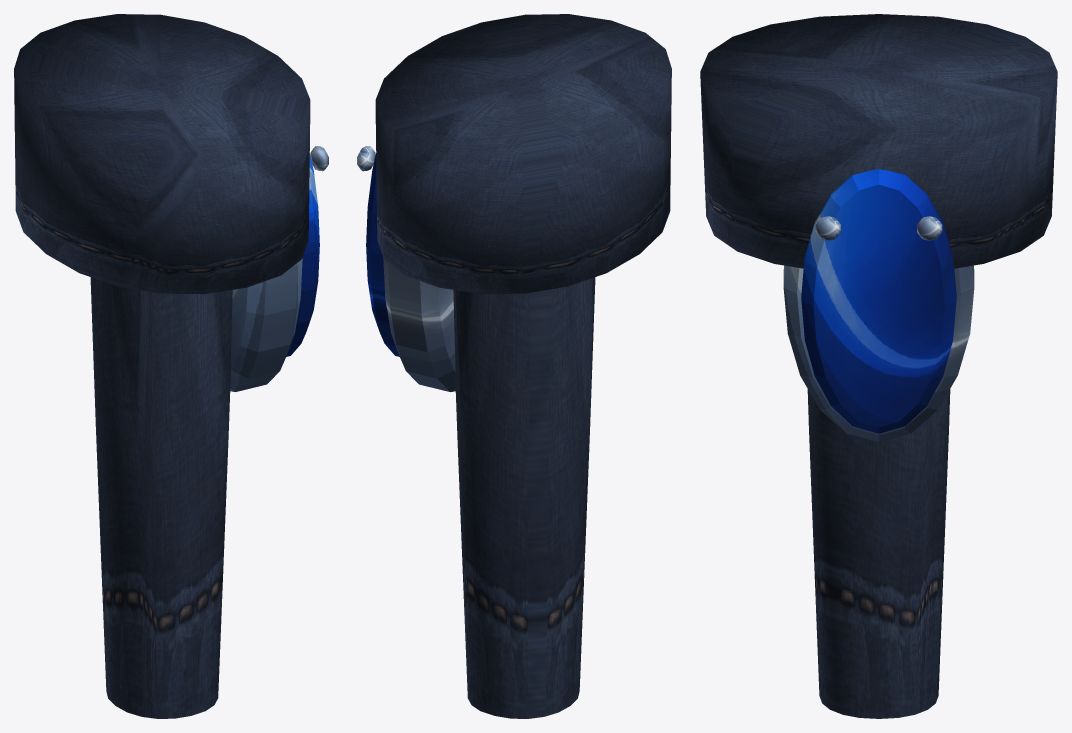
Rendered from cobalt-pants.glb.
The picture shows the model from 3 angles, left to right: view 1: azimuth 30°, elevation 25°; view 2: azimuth 150°, elevation 25°; view 3: azimuth 270°, elevation 25°; orthographic projection. The views are drawn at different scales.
Visible parts, largest first — view 1: hips, leg_L; view 2: hips, leg_L; view 3: leg_L, hips.
Boxes of the visible parts, x1=… form: hips: x1=14, y1=14, x2=310, y2=294; leg_L: x1=90, y1=146, x2=328, y2=718; hips: x1=375, y1=14, x2=671, y2=294; leg_L: x1=357, y1=146, x2=595, y2=718; leg_L: x1=783, y1=169, x2=974, y2=718; hips: x1=700, y1=14, x2=1057, y2=268.
Bounding box in the file's own units: 0.2026 × 0.4619 × 0.24.
3 materials, 3 textured.
